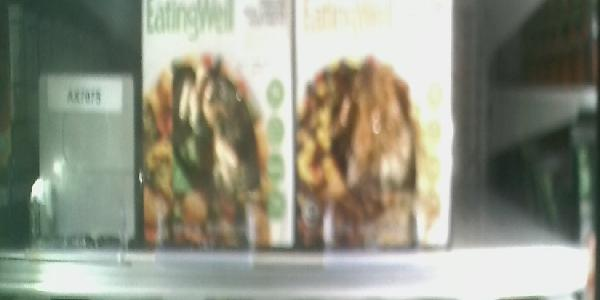pizza1: (294, 1, 457, 254), (140, 1, 294, 251)
